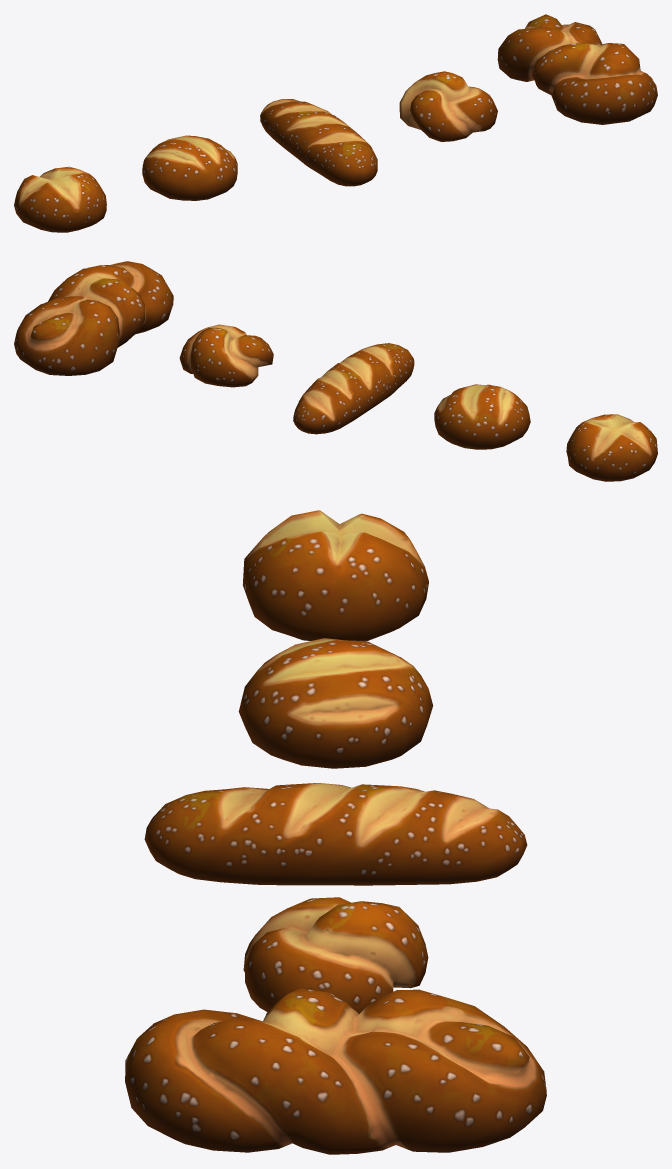
Rendered from Stylized_Pretzel_Bread_and_Rolls_-_Low_Poly.glb.
The picture shows the model from 3 angles, top to bottom: view 1: azimuth 30°, elevation 25°; view 2: azimuth 150°, elevation 25°; view 3: azimuth 270°, elevation 25°; orthographic projection. The views are drawn at different scales.
Visible parts, largest first — view 1: SM_PretzelBreadE_PretzelBread_0, SM_PretzelBreadC_PretzelBread_0, SM_PretzelBreadB_PretzelBread_0, SM_PretzelBreadD_PretzelBread_0, SM_PretzelBreadA_PretzelBread_0; view 2: SM_PretzelBreadE_PretzelBread_0, SM_PretzelBreadC_PretzelBread_0, SM_PretzelBreadB_PretzelBread_0, SM_PretzelBreadA_PretzelBread_0, SM_PretzelBreadD_PretzelBread_0; view 3: SM_PretzelBreadE_PretzelBread_0, SM_PretzelBreadC_PretzelBread_0, SM_PretzelBreadB_PretzelBread_0, SM_PretzelBreadA_PretzelBread_0, SM_PretzelBreadD_PretzelBread_0.
Boxes of the visible parts, bbox=[...] form: SM_PretzelBreadE_PretzelBread_0: bbox=[497, 14, 657, 124]; SM_PretzelBreadC_PretzelBread_0: bbox=[260, 99, 377, 186]; SM_PretzelBreadB_PretzelBread_0: bbox=[142, 135, 237, 200]; SM_PretzelBreadD_PretzelBread_0: bbox=[399, 71, 497, 141]; SM_PretzelBreadA_PretzelBread_0: bbox=[14, 166, 106, 232]; SM_PretzelBreadE_PretzelBread_0: bbox=[14, 261, 173, 375]; SM_PretzelBreadC_PretzelBread_0: bbox=[293, 343, 414, 434]; SM_PretzelBreadB_PretzelBread_0: bbox=[434, 384, 530, 449]; SM_PretzelBreadA_PretzelBread_0: bbox=[566, 414, 657, 481]; SM_PretzelBreadD_PretzelBread_0: bbox=[179, 324, 273, 387]; SM_PretzelBreadE_PretzelBread_0: bbox=[125, 988, 546, 1154]; SM_PretzelBreadC_PretzelBread_0: bbox=[144, 783, 527, 885]; SM_PretzelBreadB_PretzelBread_0: bbox=[238, 638, 433, 768]; SM_PretzelBreadA_PretzelBread_0: bbox=[243, 510, 428, 641]; SM_PretzelBreadD_PretzelBread_0: bbox=[243, 897, 428, 1013].
Size of the model in its own units: 0.9365 by 0.0813 by 0.2817.
Materials: 1 (1 with a texture image).
